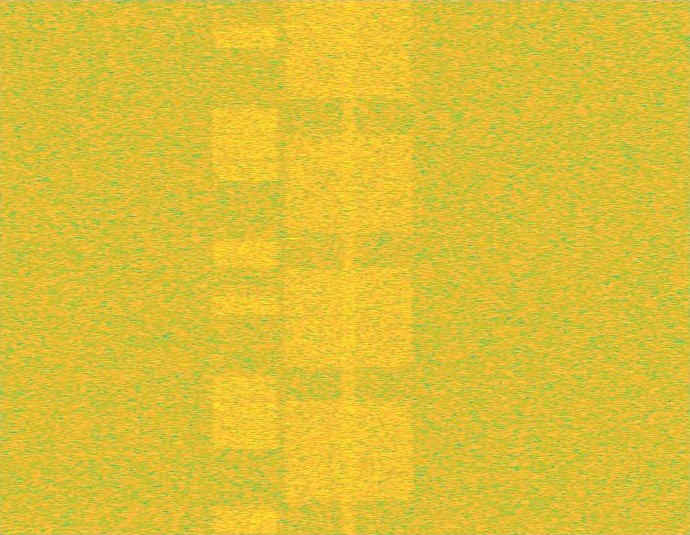5G: (280, 0, 418, 534)
DSSS: (340, 0, 358, 534)
LTE: (211, 0, 280, 534)
Radar: (287, 0, 300, 534)
